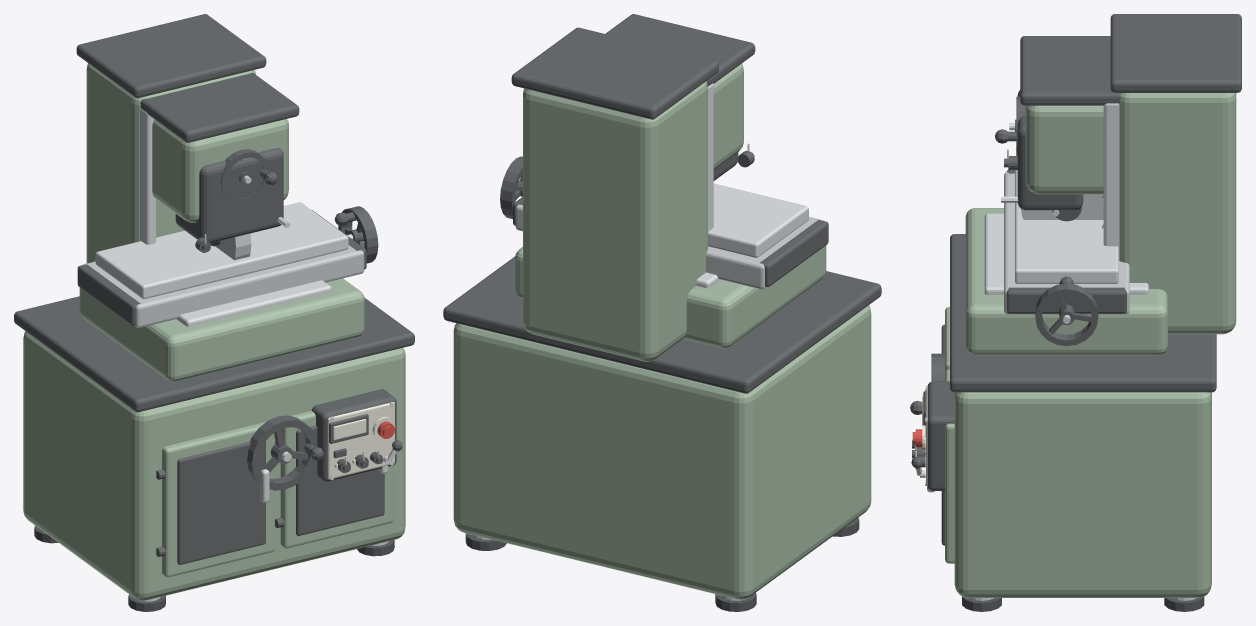
Rendered from surface-grinder-with-magnetic-chuck.glb.
3 renders of one model, left to right at view 1: azimuth 30°, elevation 25°; view 2: azimuth 150°, elevation 25°; view 3: azimuth 270°, elevation 25°, orthographic. The views are drawn at different scales.
Parts seen in each view (by area): view 1: machine-shop-and-factory-hall-surface-grinder, table-travel/steel, table-travel/cast, table-travel/charcoal, wheel-spin/cast; view 2: machine-shop-and-factory-hall-surface-grinder, table-travel/steel, table-travel/charcoal, table-travel/cast; view 3: machine-shop-and-factory-hall-surface-grinder, table-travel/steel, table-travel/charcoal, table-travel/cast, wheel-spin/cast.
Boxes of the visible parts, x1,y1,x2,y2 form: machine-shop-and-factory-hall-surface-grinder: [14, 14, 414, 611]; table-travel/steel: [95, 202, 353, 299]; table-travel/cast: [81, 245, 364, 327]; table-travel/charcoal: [77, 206, 378, 325]; wheel-spin/cast: [215, 233, 251, 260]; machine-shop-and-factory-hall-surface-grinder: [443, 14, 881, 611]; table-travel/steel: [708, 183, 808, 257]; table-travel/charcoal: [500, 156, 828, 286]; table-travel/cast: [515, 204, 823, 289]; machine-shop-and-factory-hall-surface-grinder: [910, 14, 1241, 611]; table-travel/steel: [1015, 170, 1118, 323]; table-travel/charcoal: [1006, 170, 1126, 346]; table-travel/cast: [1004, 172, 1129, 314]; wheel-spin/cast: [1021, 194, 1103, 219].
Bounding box in the file's own units: 1.31 × 2 × 1.21.
